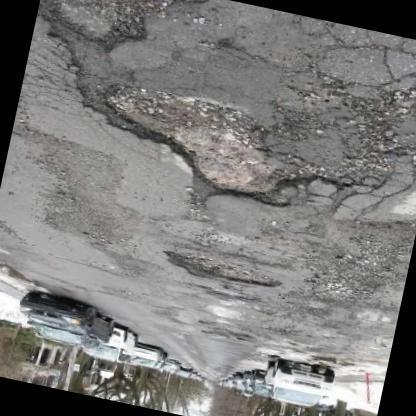pothole: (100, 80, 302, 209), (311, 214, 416, 309), (51, 0, 163, 51), (164, 247, 278, 292)
